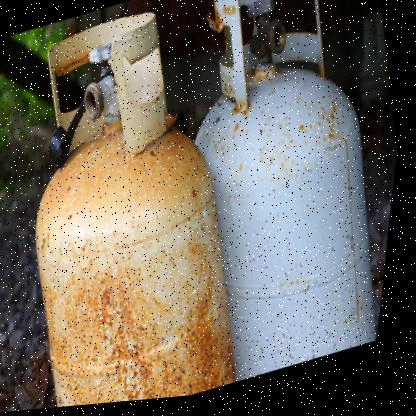gas-tank: (0, 0, 287, 414), (140, 0, 415, 397)
